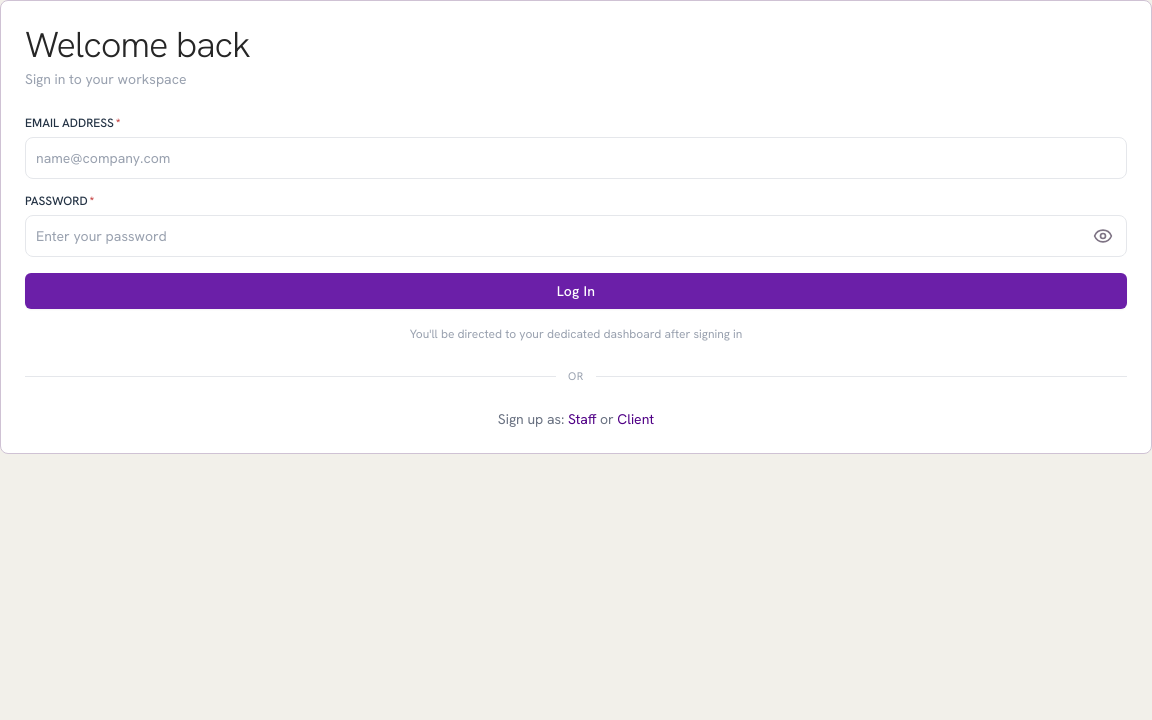
LoginForm interactions › submitting an empty form surfaces per-field validation warnings
Click the button "Log In" at (576, 291), box [25, 273, 1127, 309]
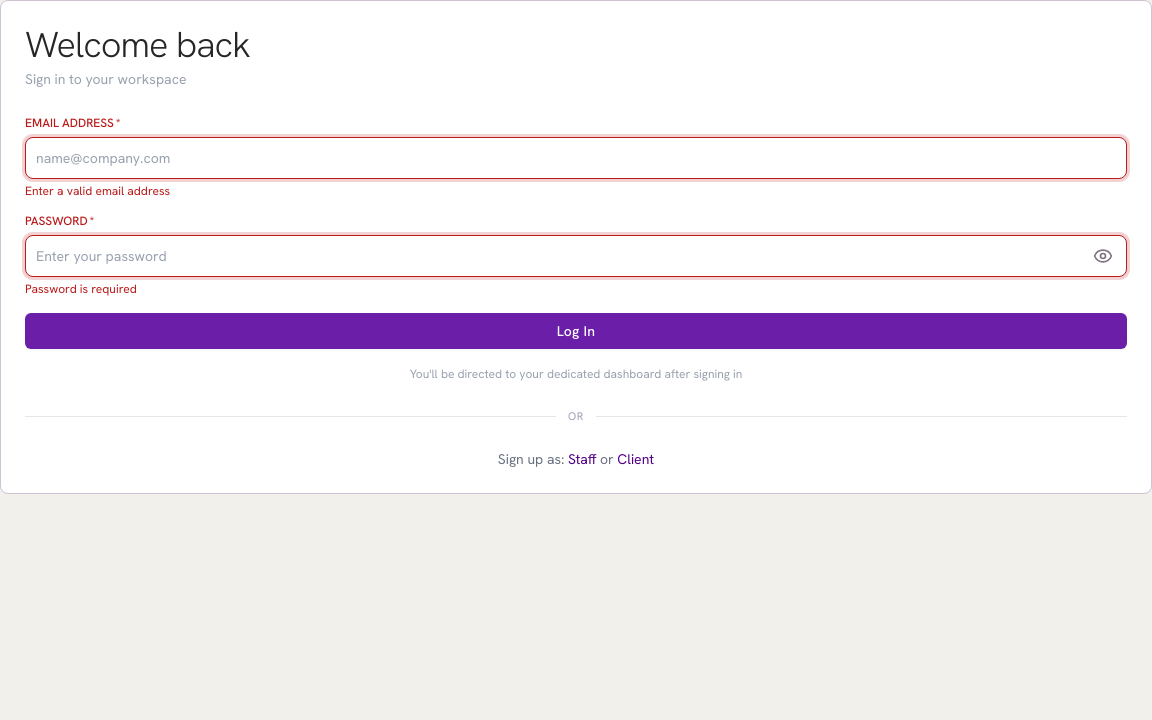
Check: the text "Enter a valid email address" is shown, box [25, 183, 170, 199]
Check: the text "Password is required" is shown, box [25, 281, 137, 297]
